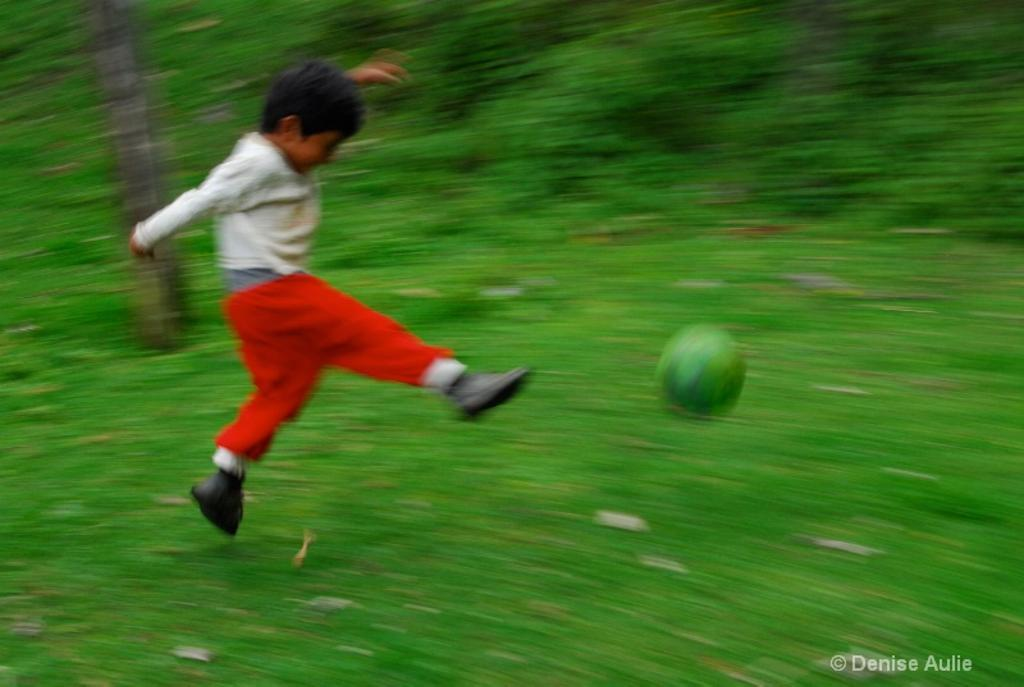face: (288, 102, 354, 171)
